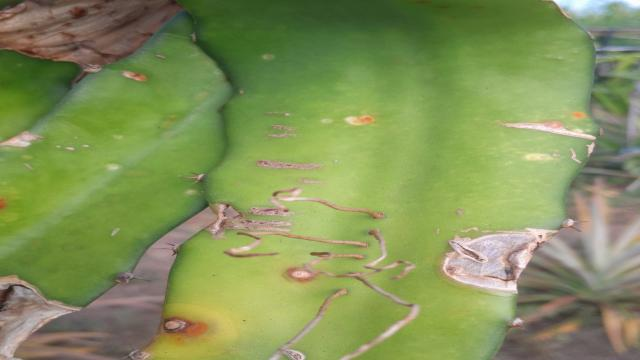stemcanker: (147, 315, 213, 345), (281, 263, 323, 285), (340, 111, 379, 130), (121, 66, 150, 85), (564, 106, 591, 122)
